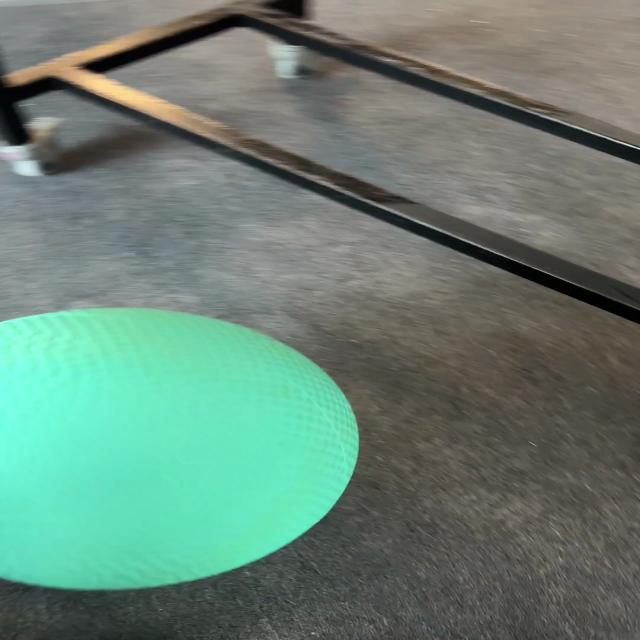Algae: (1, 306, 360, 591)
